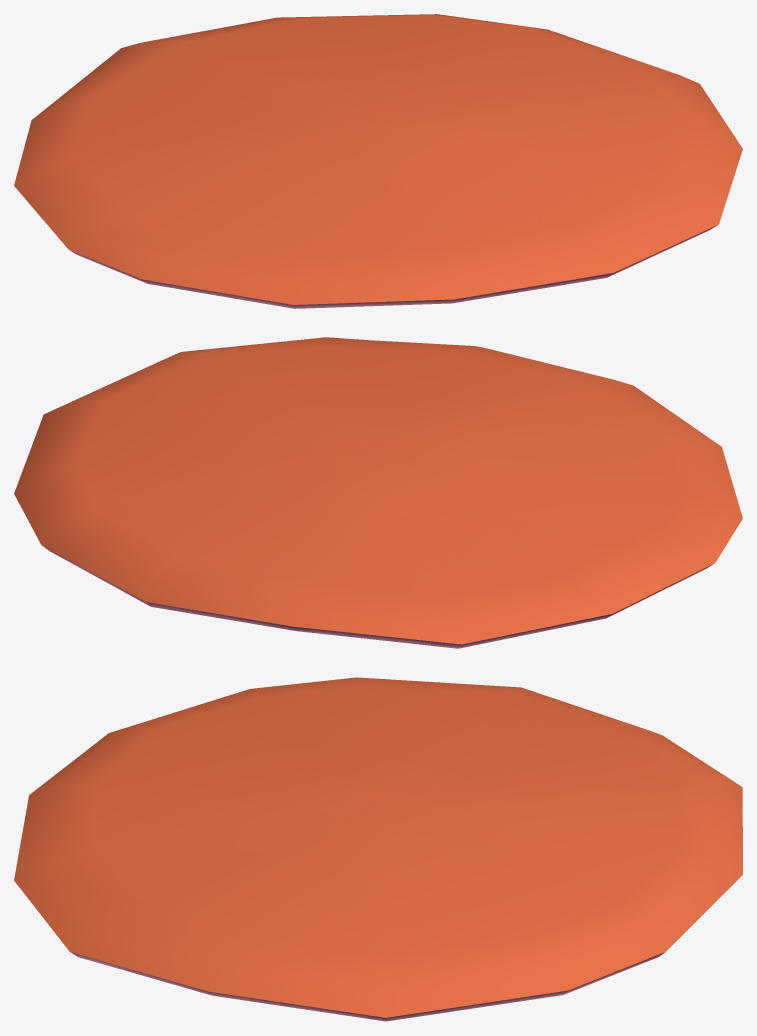
The model's file is MD_mushroom_table.fbx.
The picture shows the model from 3 angles, top to bottom: view 1: azimuth 30°, elevation 25°; view 2: azimuth 150°, elevation 25°; view 3: azimuth 270°, elevation 25°; orthographic projection. The views are drawn at different scales.
Visible parts, largest first — view 1: mushroom_table1; view 2: mushroom_table1; view 3: mushroom_table1.
Boxes of the visible parts, box(x1,y1,x2,y2) form: mushroom_table1: box(14, 14, 742, 308); mushroom_table1: box(14, 337, 742, 648); mushroom_table1: box(14, 677, 742, 1021).
Size of the model in its own units: 204 by 46.5 by 186.
Materials: 1 (1 with a texture image).
